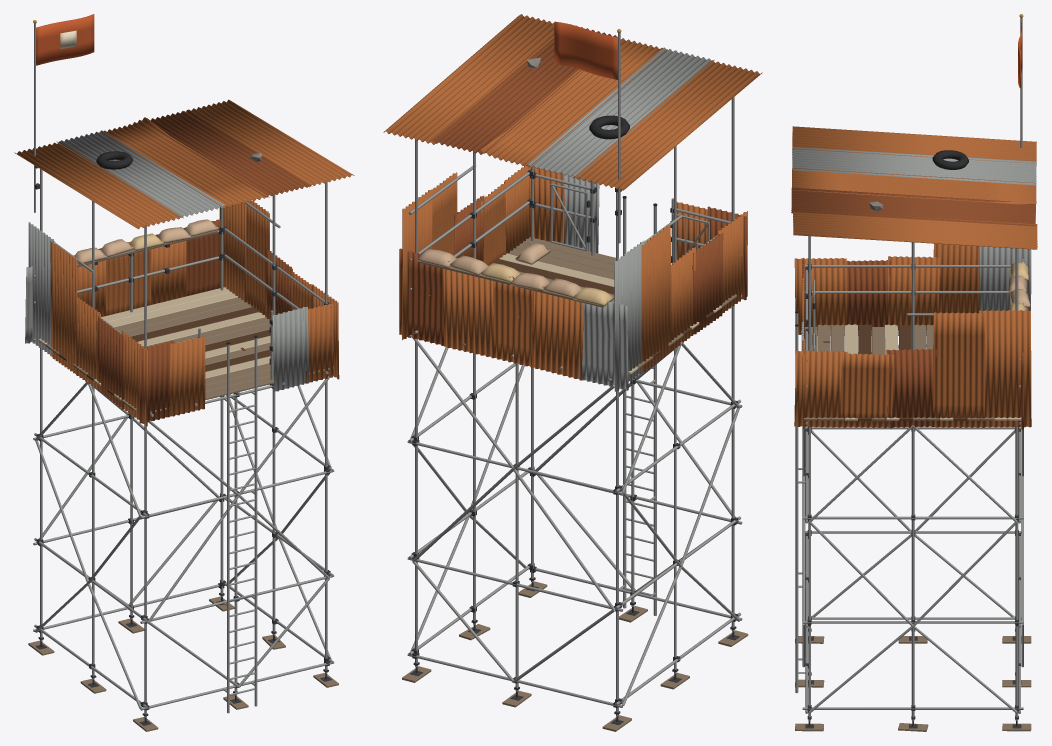
Rendered from deco_watchtower_metal_scaffold.fbx.
3 renders of one model, left to right at view 1: azimuth 30°, elevation 25°; view 2: azimuth 150°, elevation 25°; view 3: azimuth 270°, elevation 25°, orthographic. The views are drawn at different scales.
Parts seen in each view (by area): view 1: Watchtower_MetalScaffold_Cladding, Watchtower_MetalScaffold_Tubes, Watchtower_MetalScaffold_Sheets, Watchtower_MetalScaffold_Deck, Watchtower_MetalScaffold_Ladder, Watchtower_MetalScaffold_Flag, Watchtower_MetalScaffold_Sandbags, Watchtower_MetalScaffold_Base, Watchtower_MetalScaffold_Clamps; view 2: Watchtower_MetalScaffold_Cladding, Watchtower_MetalScaffold_Sheets, Watchtower_MetalScaffold_Tubes, Watchtower_MetalScaffold_Deck, Watchtower_MetalScaffold_Sandbags, Watchtower_MetalScaffold_Ladder, Watchtower_MetalScaffold_Flag, Watchtower_MetalScaffold_Base, Watchtower_MetalScaffold_Clamps, Watchtower_MetalScaffold_GateR; view 3: Watchtower_MetalScaffold_Cladding, Watchtower_MetalScaffold_Sheets, Watchtower_MetalScaffold_Tubes, Watchtower_MetalScaffold_Deck, Watchtower_MetalScaffold_Base, Watchtower_MetalScaffold_Ladder, Watchtower_MetalScaffold_Sandbags, Watchtower_MetalScaffold_Clamps.
Part boxes in pixels (<box>): Watchtower_MetalScaffold_Cladding: <box>25,200,339,426</box>; Watchtower_MetalScaffold_Tubes: <box>33,20,334,717</box>; Watchtower_MetalScaffold_Sheets: <box>14,99,354,229</box>; Watchtower_MetalScaffold_Deck: <box>38,287,333,413</box>; Watchtower_MetalScaffold_Ladder: <box>223,335,257,713</box>; Watchtower_MetalScaffold_Flag: <box>36,14,94,65</box>; Watchtower_MetalScaffold_Sandbags: <box>73,219,218,266</box>; Watchtower_MetalScaffold_Base: <box>28,593,338,731</box>; Watchtower_MetalScaffold_Clamps: <box>35,166,330,710</box>; Watchtower_MetalScaffold_Cladding: <box>399,165,747,391</box>; Watchtower_MetalScaffold_Sheets: <box>383,14,762,190</box>; Watchtower_MetalScaffold_Tubes: <box>407,29,742,716</box>; Watchtower_MetalScaffold_Deck: <box>490,237,736,374</box>; Watchtower_MetalScaffold_Sandbags: <box>417,243,613,307</box>; Watchtower_MetalScaffold_Ladder: <box>619,196,657,615</box>; Watchtower_MetalScaffold_Flag: <box>554,21,617,79</box>; Watchtower_MetalScaffold_Base: <box>402,577,748,731</box>; Watchtower_MetalScaffold_Clamps: <box>411,169,738,707</box>; Watchtower_MetalScaffold_GateR: <box>550,183,590,251</box>; Watchtower_MetalScaffold_Cladding: <box>794,243,1031,430</box>; Watchtower_MetalScaffold_Sheets: <box>791,126,1037,249</box>; Watchtower_MetalScaffold_Tubes: <box>801,14,1023,720</box>; Watchtower_MetalScaffold_Deck: <box>803,324,1021,420</box>; Watchtower_MetalScaffold_Base: <box>795,628,1031,731</box>; Watchtower_MetalScaffold_Ladder: <box>795,311,805,693</box>; Watchtower_MetalScaffold_Sandbags: <box>1008,262,1030,310</box>; Watchtower_MetalScaffold_Clamps: <box>805,264,1020,712</box>.
Size of the model in its own units: 437 by 1199 by 427.
